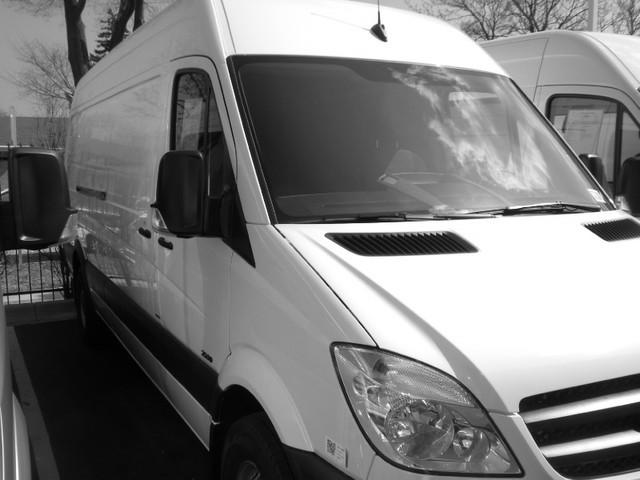car: (62, 3, 639, 480)
